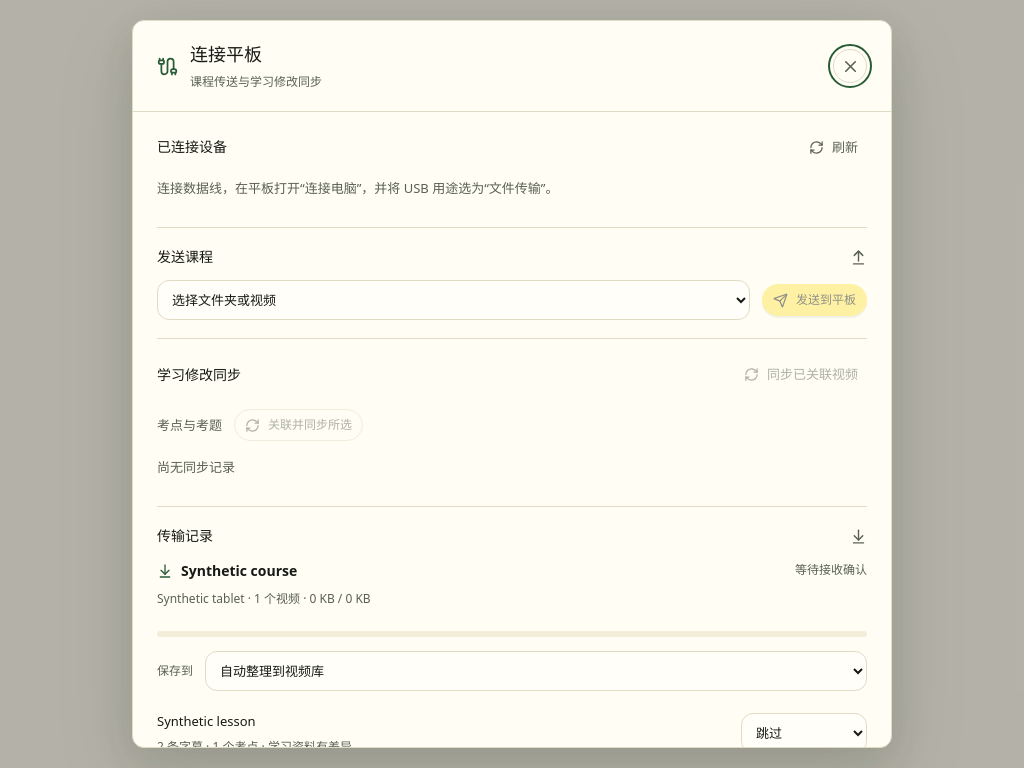
Test case: sends explicit overwrite consent and keeps the preview usable after a failed confirmation
This screenshot has width=1024, height=768.
Select "覆盖并备份" in the dropdown named "Synthetic lesson的接收操作" at (804, 733), box [741, 713, 867, 753]
(page scrolled)
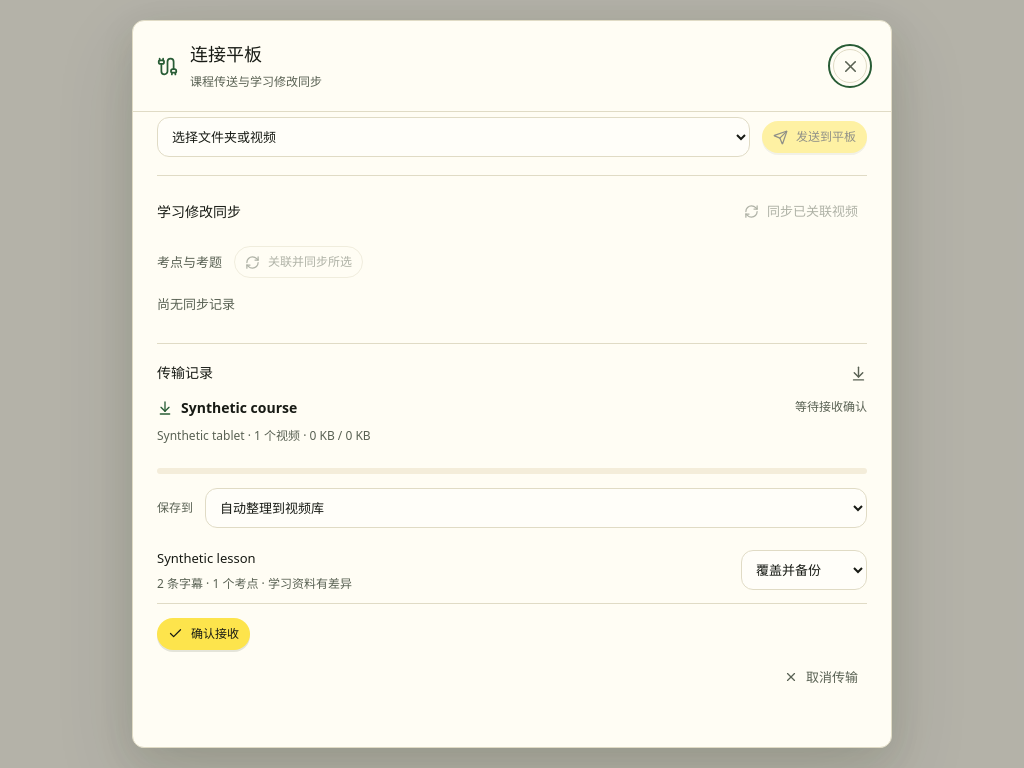
Click the button "确认接收" at (204, 634), box [157, 618, 250, 650]
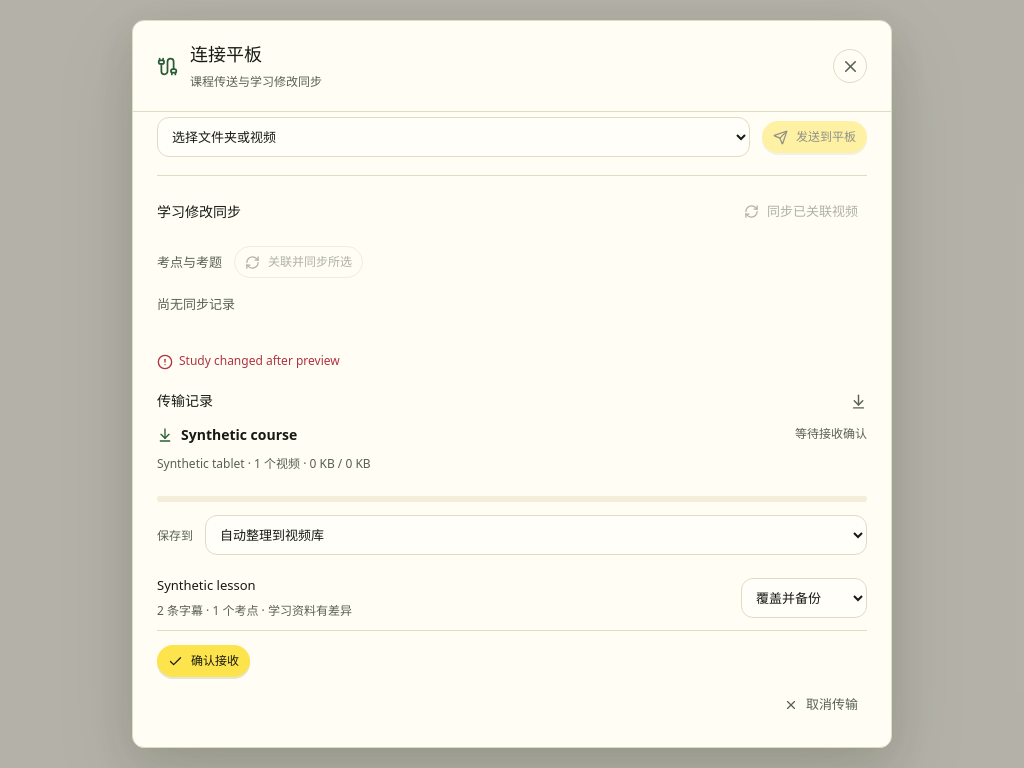
Result: the button "确认接收" is enabled at [157, 645, 250, 677]
Result: the message "Study changed after preview" is shown at [157, 352, 340, 370]
